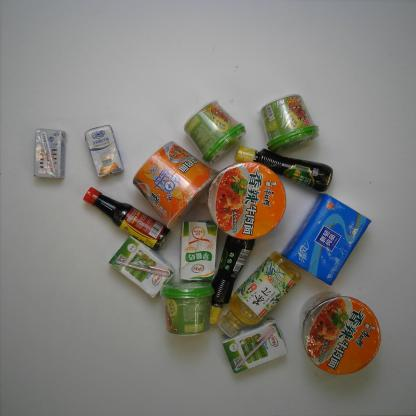Drink: (215, 250, 301, 339)
Instant Drink: (182, 99, 247, 164), (260, 92, 320, 155), (160, 280, 212, 336)
Instant Noodles: (132, 139, 221, 229), (298, 290, 382, 376), (208, 163, 286, 241)
Milk: (108, 236, 176, 298), (222, 318, 288, 375), (178, 219, 218, 284), (82, 123, 124, 179), (33, 128, 66, 179)
Seasoner: (80, 188, 172, 250), (234, 141, 334, 193), (204, 229, 255, 325)
Tissue: (280, 193, 372, 285)
